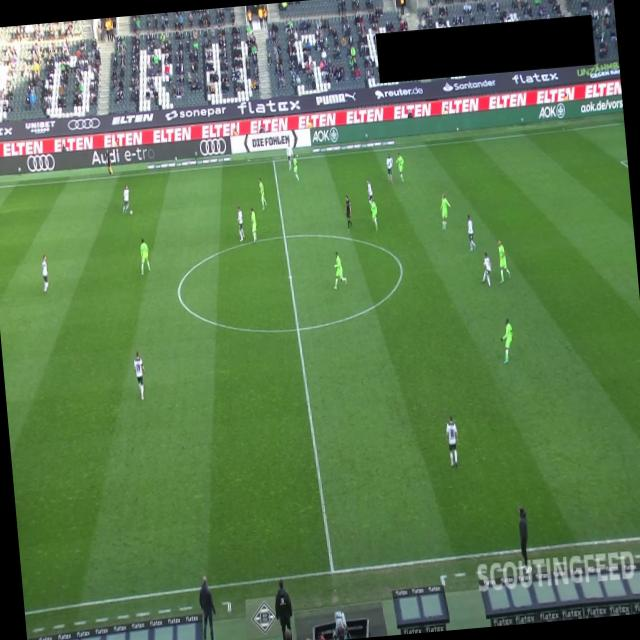ball: (129, 208, 133, 216)
player: (443, 414, 461, 468), (132, 348, 148, 401), (499, 316, 515, 364), (330, 250, 347, 290), (496, 238, 511, 283), (438, 190, 452, 230), (478, 250, 492, 288), (138, 237, 150, 274), (40, 253, 50, 293), (394, 151, 406, 183), (119, 183, 131, 215), (235, 204, 245, 242), (466, 214, 476, 251), (368, 196, 378, 232), (258, 176, 268, 210), (249, 206, 258, 242), (384, 152, 394, 184), (285, 144, 295, 171), (291, 155, 299, 181), (366, 178, 374, 204)
referee: (343, 194, 352, 229), (105, 151, 113, 176)
